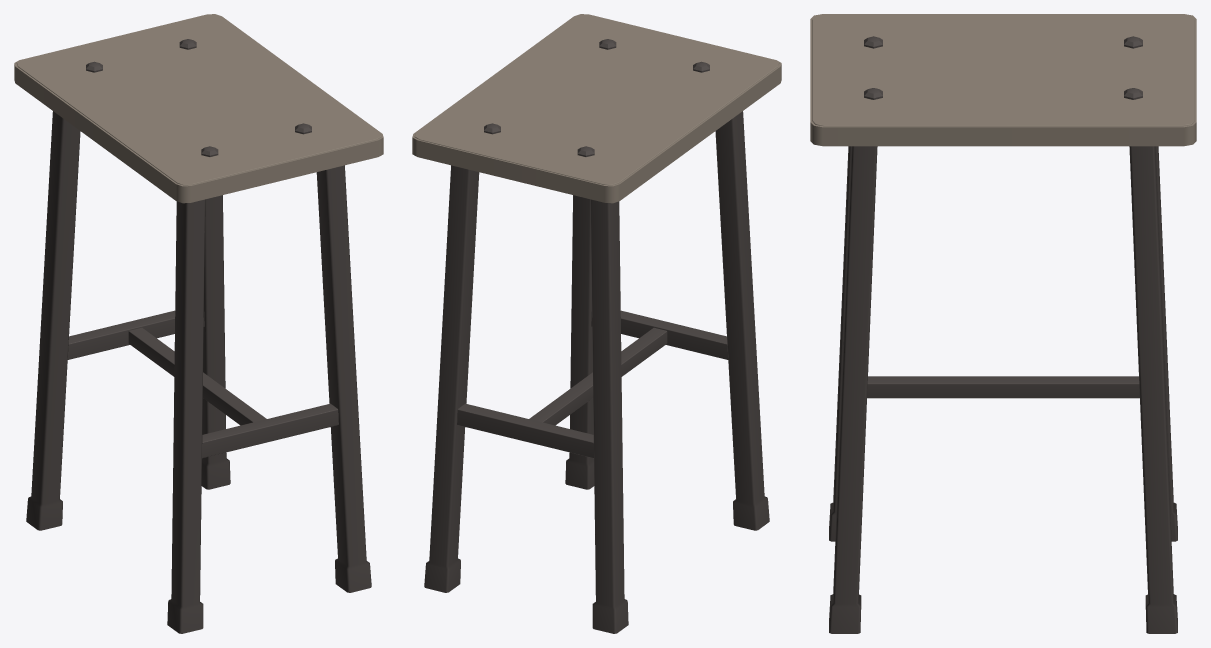
Rendered from stool.fbx.
3 views of the same model, side by side, from view 1: azimuth 30°, elevation 25°; view 2: azimuth 150°, elevation 25°; view 3: azimuth 270°, elevation 25° (orthographic). The views are drawn at different scales.
Visible parts, largest first — view 1: stool; view 2: stool; view 3: stool.
Part boxes in pixels (box(x1,y1,x2,y2)): stool: box(14, 14, 383, 633); stool: box(412, 14, 781, 633); stool: box(810, 14, 1196, 633).
Size of the model in its own units: 0.4662 by 0.9943 by 0.6721.
